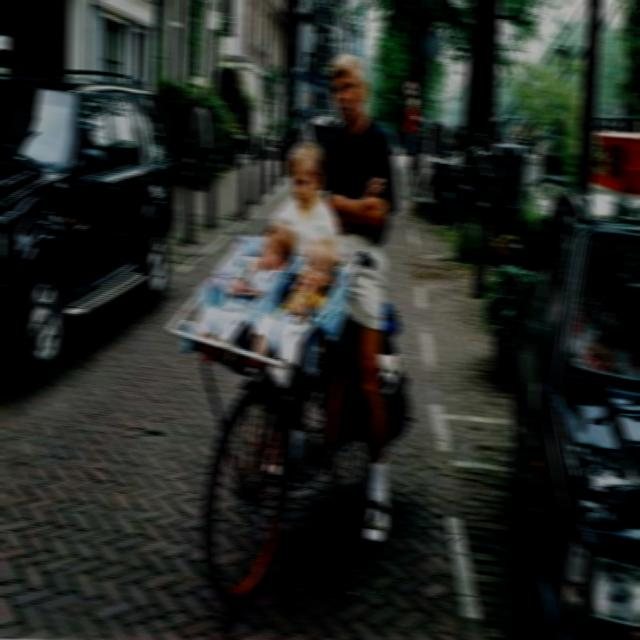Without Helmet: (320, 47, 374, 135), (287, 142, 326, 206), (300, 237, 336, 297), (256, 222, 294, 274)
